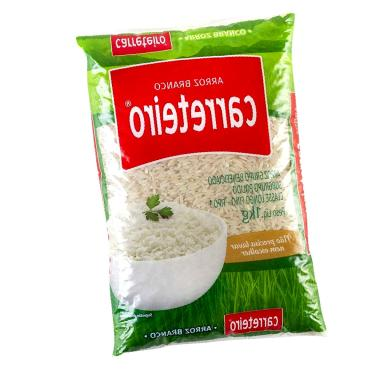rice package: (78, 14, 325, 354)
